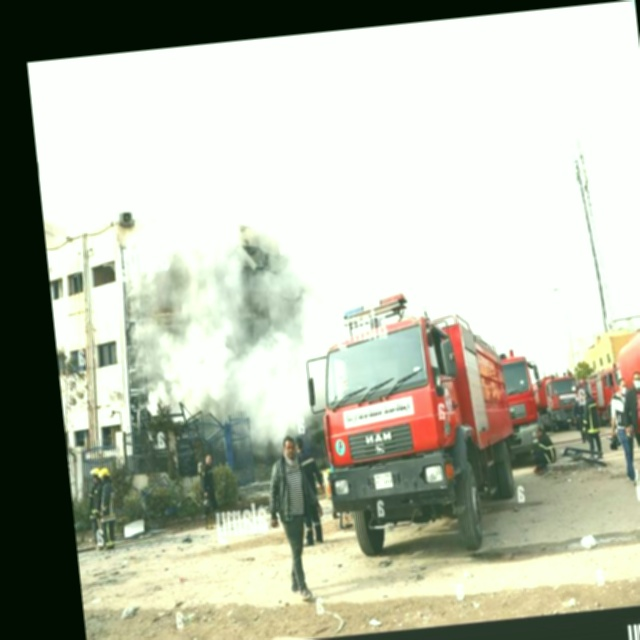Fire-truck: (299, 281, 527, 567), (534, 361, 595, 425)
person: (262, 432, 331, 602), (292, 433, 332, 547), (606, 377, 639, 487), (94, 466, 121, 550), (84, 467, 110, 549), (198, 454, 221, 530), (528, 423, 559, 476)
